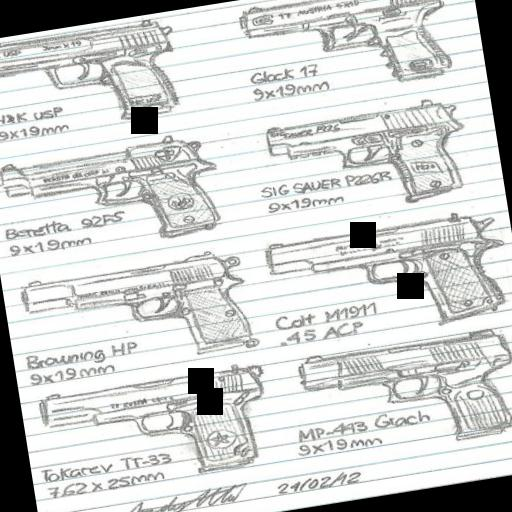Handgun: (31, 356, 271, 508), (262, 204, 508, 348), (5, 243, 258, 381), (294, 322, 512, 468), (0, 129, 225, 265), (258, 92, 470, 224), (0, 11, 184, 136), (233, 0, 455, 103)
